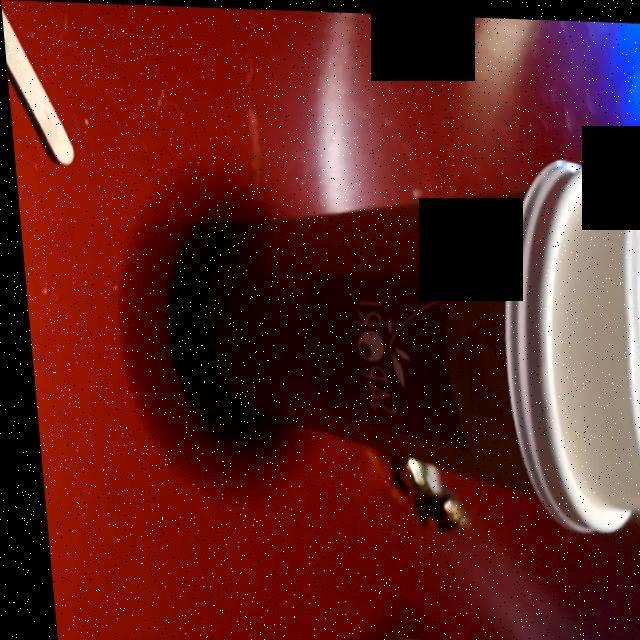cappuccino: (168, 184, 640, 526)
